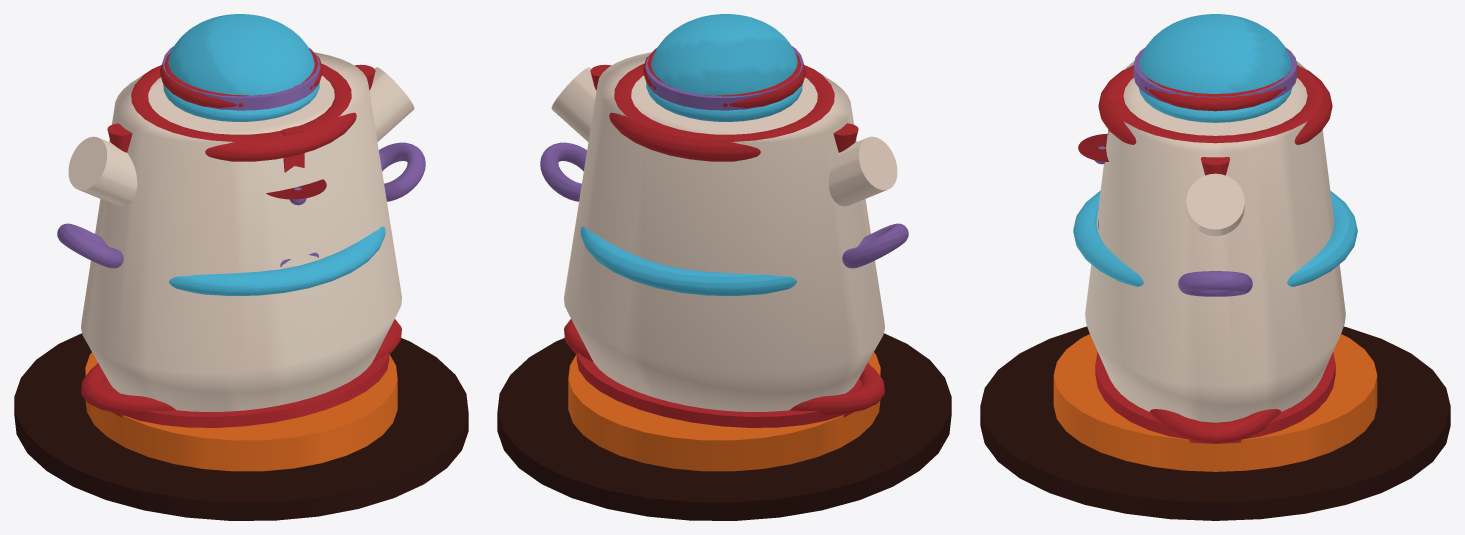
File: 0279_世界古代文明图鉴_太阳神面具.glb
3 renders of one model, left to right at view 1: azimuth 30°, elevation 25°; view 2: azimuth 150°, elevation 25°; view 3: azimuth 270°, elevation 25°, orthographic.
Parts seen in each view (by area): view 1: card_0279; view 2: card_0279; view 3: card_0279.
Boxes of the visible parts, bbox=[...] form: card_0279: bbox=[14, 14, 468, 520]; card_0279: bbox=[497, 14, 951, 520]; card_0279: bbox=[980, 14, 1450, 520].
Size of the model in its own units: 1.02 by 1 by 1.06.
